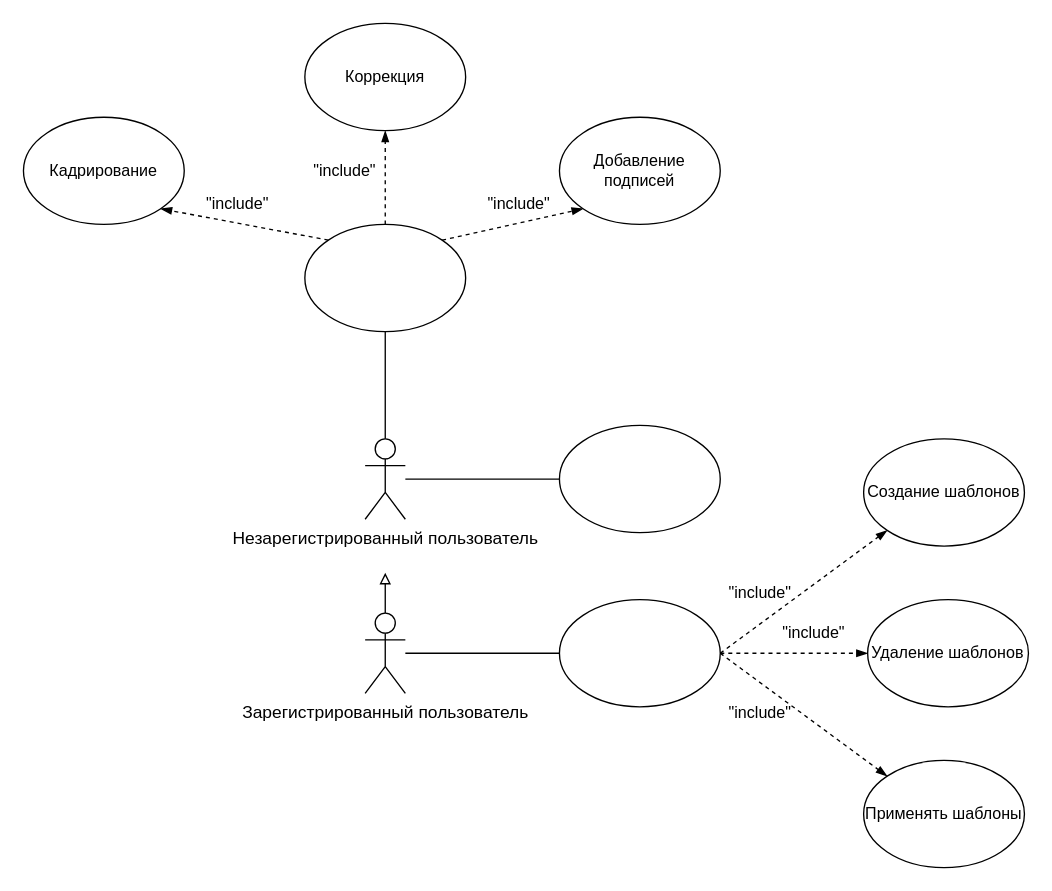
Some shapes in this 1052 by 891 pixel diagram are drawn without their labels. Here are the shapes that lost their labels. From the top down, the centre of each, then its label:
(385,277): Обработка изображения
(639,478): Сохранение изображения
(639,652): Шаблоны
